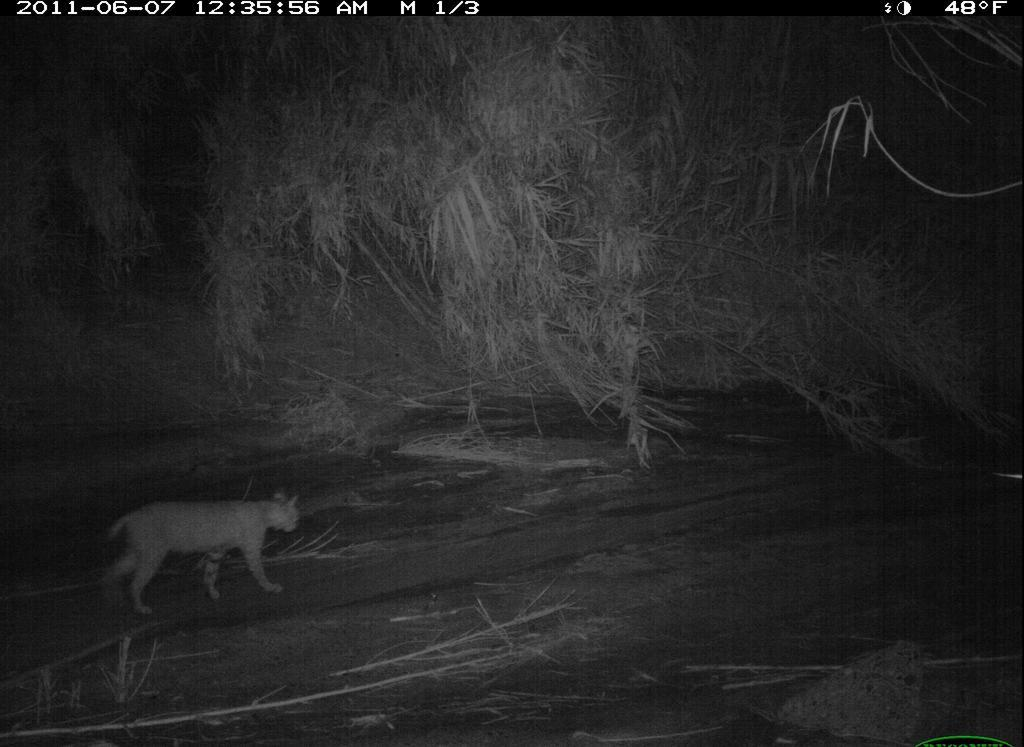bobcat: (91, 479, 314, 625)
